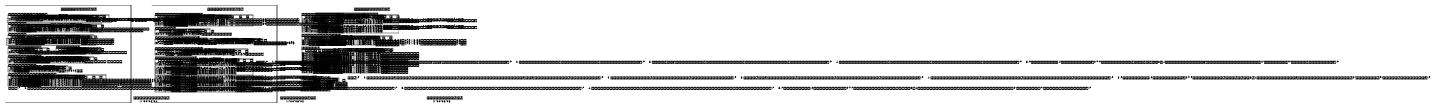wall: (5, 63, 332, 71), (7, 88, 388, 93)
